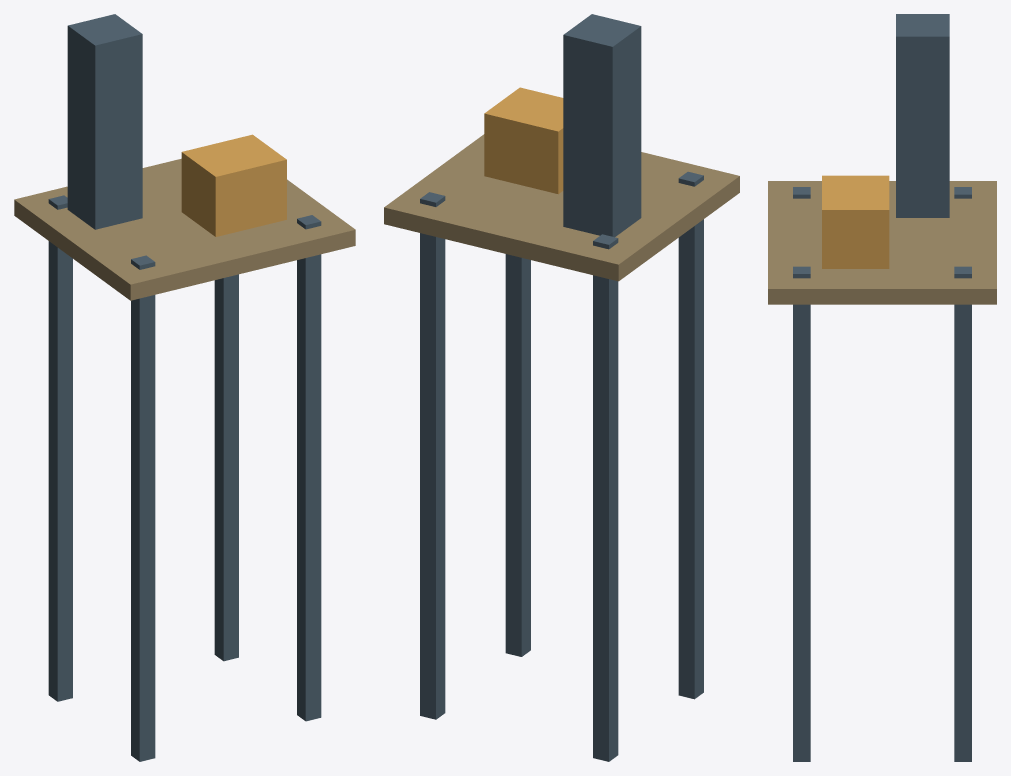
File: platform.glb
The picture shows the model from 3 angles, left to right: view 1: azimuth 30°, elevation 25°; view 2: azimuth 150°, elevation 25°; view 3: azimuth 270°, elevation 25°; orthographic projection. The views are drawn at different scales.
Parts seen in each view (by area): view 1: Platform; view 2: Platform; view 3: Platform.
Boxes of the visible parts, <box> form: Platform: <box>14,14,355,761</box>; Platform: <box>384,14,739,761</box>; Platform: <box>768,14,996,761</box>.
Bounding box in the file's own units: 19 × 54.5 × 17.
